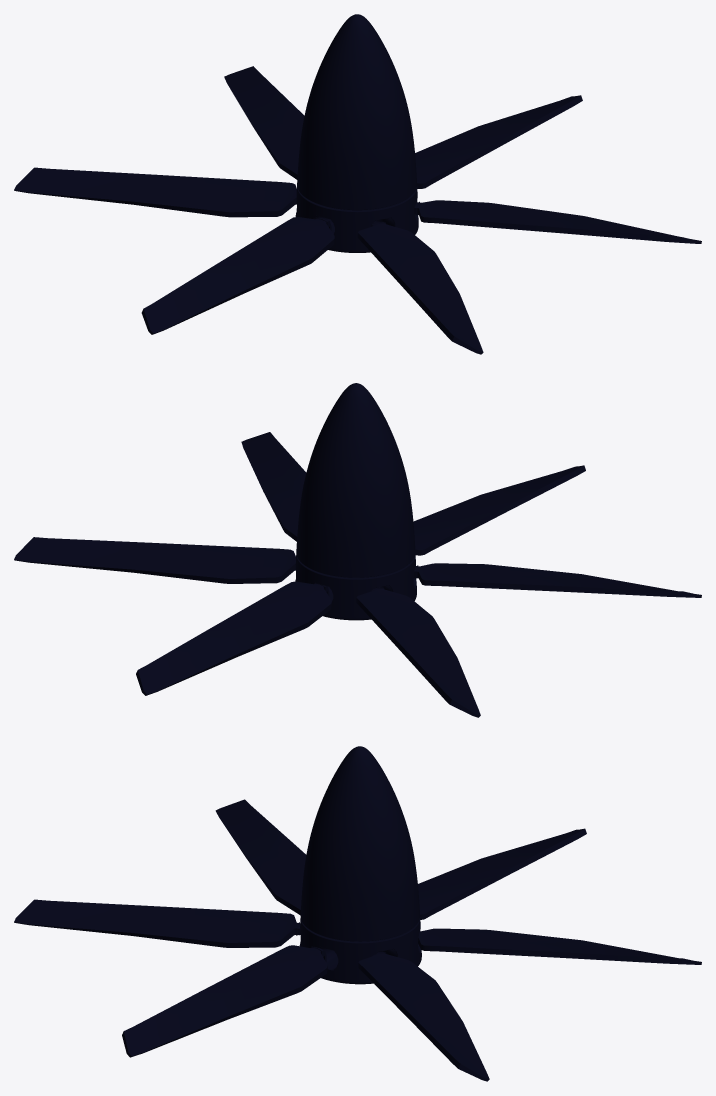
The model's file is SAG.fbx.
3 views of the same model, one above another, from view 1: azimuth 30°, elevation 25°; view 2: azimuth 150°, elevation 25°; view 3: azimuth 270°, elevation 25° (orthographic).
Parts seen in each view (by area): view 1: _135_Object1093, _141_Box028, _140_Box027, _139_Box025, _138_Box030, _136_Box029, _137_Box026; view 2: _135_Object1093, _136_Box029, _137_Box026, _141_Box028, _140_Box027, _139_Box025, _138_Box030; view 3: _135_Object1093, _139_Box025, _138_Box030, _136_Box029, _137_Box026, _140_Box027, _141_Box028.
Part boxes in pixels (x1,y1,x2,y2): _135_Object1093: (295, 14, 418, 252); _141_Box028: (14, 167, 296, 217); _140_Box027: (141, 217, 334, 334); _139_Box025: (357, 222, 483, 354); _138_Box030: (414, 200, 701, 243); _136_Box029: (415, 95, 582, 188); _137_Box026: (224, 66, 304, 179); _135_Object1093: (295, 383, 416, 620); _136_Box029: (14, 537, 295, 583); _137_Box026: (136, 581, 331, 695); _141_Box028: (356, 587, 480, 717); _140_Box027: (413, 563, 701, 597); _139_Box025: (413, 465, 585, 555); _138_Box030: (241, 432, 306, 541); _135_Object1093: (299, 746, 421, 984); _139_Box025: (14, 899, 300, 947); _138_Box030: (122, 945, 327, 1057); _136_Box029: (358, 951, 489, 1081); _137_Box026: (418, 928, 701, 964); _140_Box027: (215, 799, 306, 915); _141_Box028: (418, 828, 586, 919).
Size of the model in its own units: 34.59 by 12.62 by 37.04.
